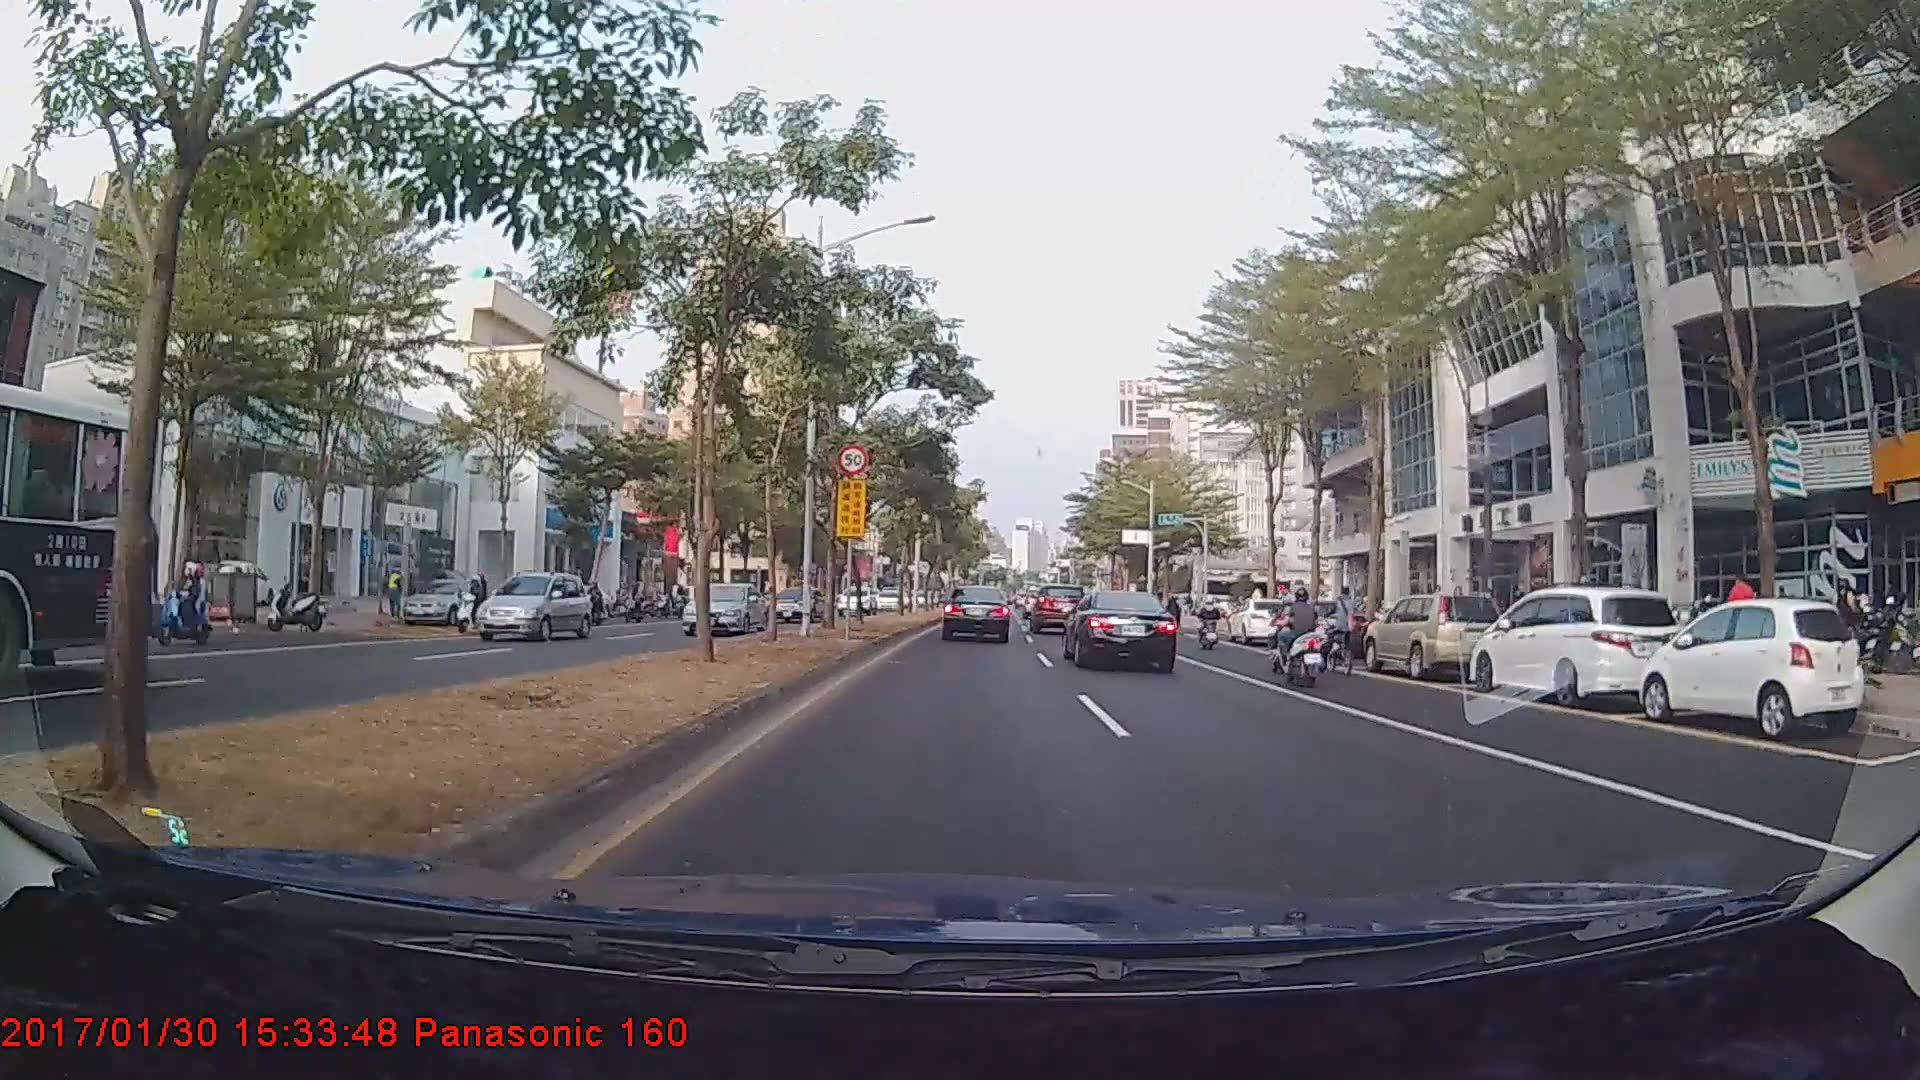rider: (1265, 582, 1338, 687), (155, 557, 217, 648), (456, 570, 498, 637), (1191, 593, 1225, 649)
vehicle: (0, 376, 162, 688), (1641, 595, 1867, 737), (1467, 586, 1683, 706), (1362, 592, 1504, 677), (1064, 586, 1179, 672), (469, 570, 594, 645), (1264, 599, 1363, 661), (679, 581, 765, 634), (941, 584, 1013, 643), (400, 578, 487, 623), (1230, 595, 1296, 647), (1028, 584, 1079, 633), (772, 584, 824, 622), (836, 587, 875, 614)
